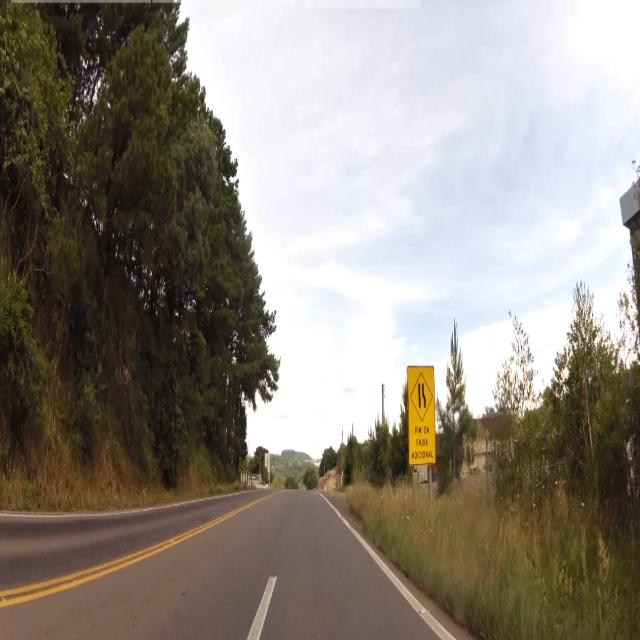A-21c: (406, 365, 438, 420)
